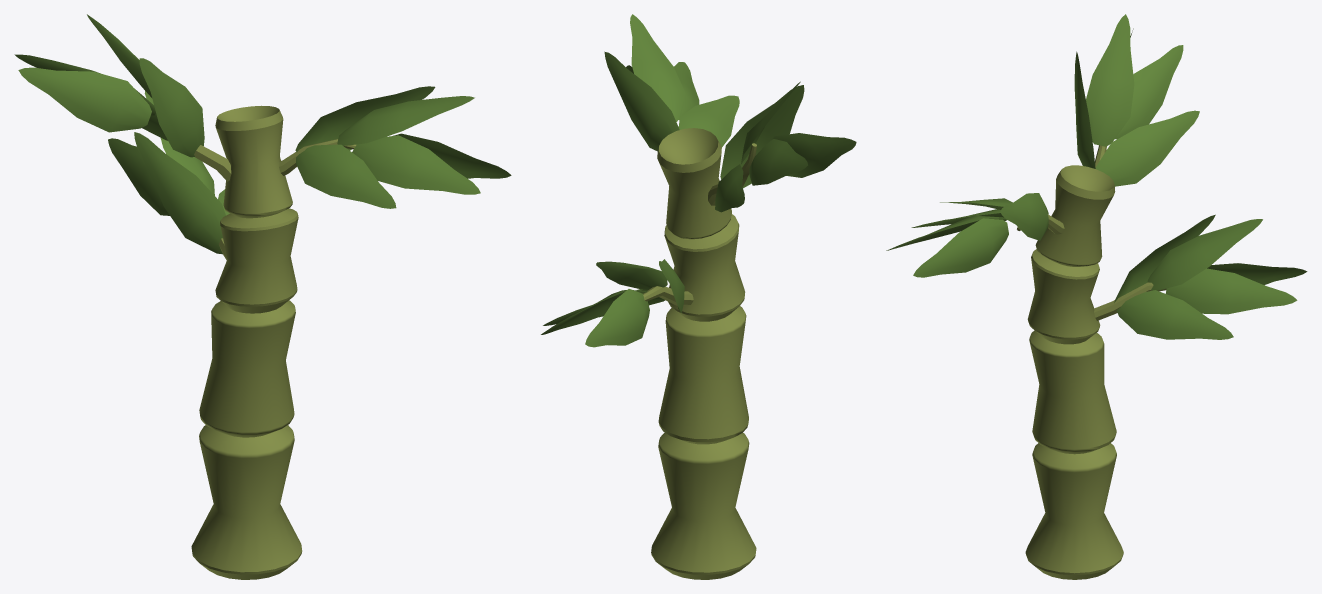
File: New Bamboo Tree.fbx
3 renders of one model, left to right at view 1: azimuth 30°, elevation 25°; view 2: azimuth 150°, elevation 25°; view 3: azimuth 270°, elevation 25°, orthographic. The views are drawn at different scales.
Visible parts, largest first — view 1: pCylinder1, pPlane6 (×3), pPlane5 (×3), pPlane3 (×2), pPlane1 (×3), pPlane2, pCylinder4; view 2: pCylinder1, pPlane6 (×3), pPlane1 (×3), pPlane5 (×2), pPlane3 (×3), pPlane2 (×2), pCylinder2, pCylinder4; view 3: pCylinder1, pPlane2 (×2), pPlane1 (×2), pPlane3 (×3), pPlane6 (×3), pPlane5 (×2), pCylinder2.
Part boxes in pixels (<box>): pCylinder1: <box>191,105,302,579</box>; pPlane6 (×3): <box>134,58,435,254</box>; pPlane5 (×3): <box>18,67,511,215</box>; pPlane3 (×2): <box>14,54,480,194</box>; pPlane1 (×3): <box>87,14,474,195</box>; pPlane2: <box>296,144,396,208</box>; pCylinder4: <box>194,145,231,181</box>; pCylinder1: <box>651,128,756,579</box>; pPlane6 (×3): <box>604,51,804,312</box>; pPlane1 (×3): <box>596,14,800,290</box>; pPlane5 (×2): <box>585,133,856,347</box>; pPlane3 (×3): <box>541,62,807,334</box>; pPlane2 (×2): <box>678,95,744,212</box>; pCylinder2: <box>643,286,693,305</box>; pCylinder4: <box>708,143,756,205</box>; pCylinder1: <box>1025,165,1123,579</box>; pPlane2 (×2): <box>1095,110,1233,339</box>; pPlane1 (×2): <box>1086,14,1262,290</box>; pPlane3 (×3): <box>886,45,1297,314</box>; pPlane6 (×3): <box>1000,51,1215,302</box>; pPlane5 (×2): <box>913,218,1307,285</box>; pCylinder2: <box>1094,282,1166,320</box>.
Size of the model in its own units: 38.74 by 56.19 by 43.59.
